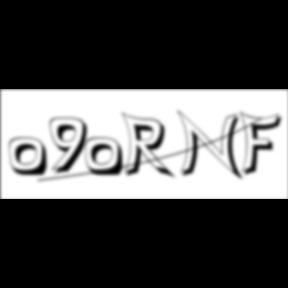9: (50, 117, 94, 177)
F: (240, 110, 288, 178)
N: (177, 109, 247, 183)
R: (122, 112, 179, 182)
o: (9, 137, 51, 179), (85, 137, 127, 179)
